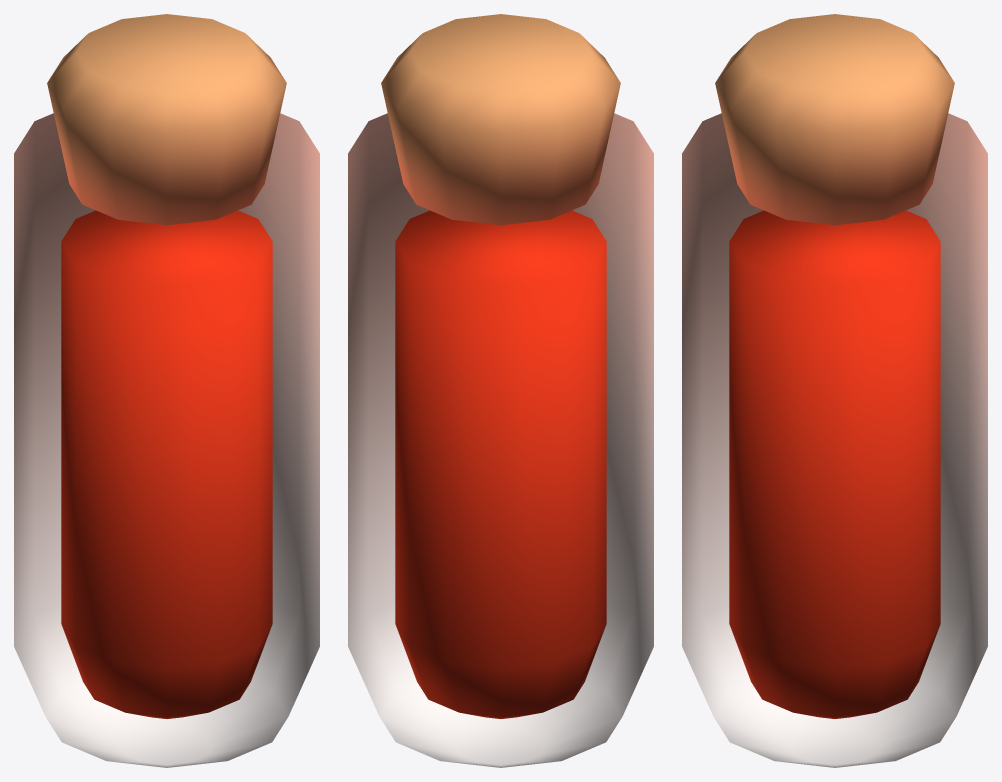
Rendered from potion-capsule.glb.
The picture shows the model from 3 angles, left to right: view 1: azimuth 30°, elevation 25°; view 2: azimuth 150°, elevation 25°; view 3: azimuth 270°, elevation 25°; orthographic projection.
Parts seen in each view (by area): view 1: BottleLiquid.002, Bottle.002, BottleCap.002; view 2: BottleLiquid.002, Bottle.002, BottleCap.002; view 3: BottleLiquid.002, Bottle.002, BottleCap.002.
Part boxes in pixels (x1,y1,x2,y2): BottleLiquid.002: [61, 210, 272, 718]; Bottle.002: [14, 113, 319, 767]; BottleCap.002: [47, 14, 286, 225]; BottleLiquid.002: [395, 210, 606, 718]; Bottle.002: [348, 113, 653, 767]; BottleCap.002: [381, 14, 620, 225]; BottleLiquid.002: [729, 210, 940, 718]; Bottle.002: [682, 113, 987, 767]; BottleCap.002: [715, 14, 954, 225].
Size of the model in its own units: 0.2299 by 0.5748 by 0.2299.
1 material, 1 textured.
